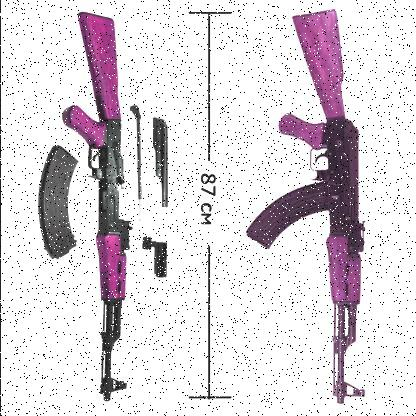rifle: (235, 7, 382, 402), (17, 12, 151, 398)
